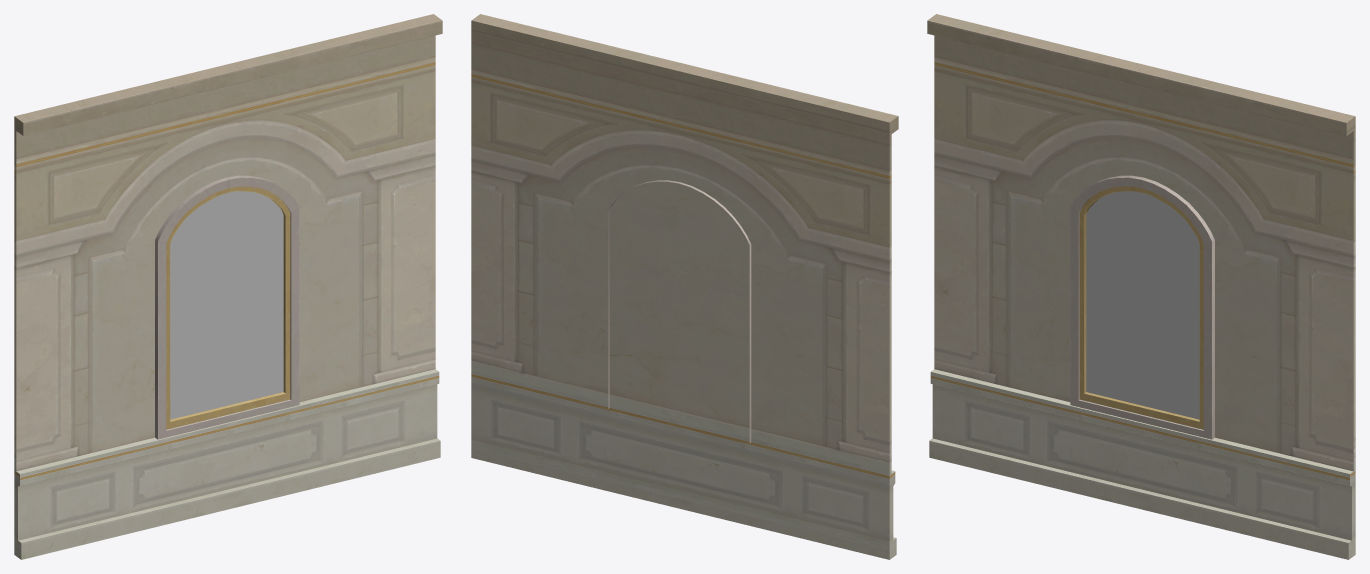
The model's file is Homeworld_Interior_Fd_Room_Wall_02_Vo.fbx.
The picture shows the model from 3 angles, left to right: view 1: azimuth 30°, elevation 25°; view 2: azimuth 150°, elevation 25°; view 3: azimuth 330°, elevation 25°; orthographic projection.
Parts seen in each view (by area): view 1: Homeworld_Interior_Fd_Room_Wall_02_Vo; view 2: Homeworld_Interior_Fd_Room_Wall_02_Vo; view 3: Homeworld_Interior_Fd_Room_Wall_02_Vo.
Boxes of the visible parts, x1=… form: Homeworld_Interior_Fd_Room_Wall_02_Vo: x1=14, y1=14, x2=442, y2=559; Homeworld_Interior_Fd_Room_Wall_02_Vo: x1=471, y1=14, x2=898, y2=559; Homeworld_Interior_Fd_Room_Wall_02_Vo: x1=927, y1=14, x2=1355, y2=559.
Size of the model in its own units: 5 by 5 by 0.2207.
